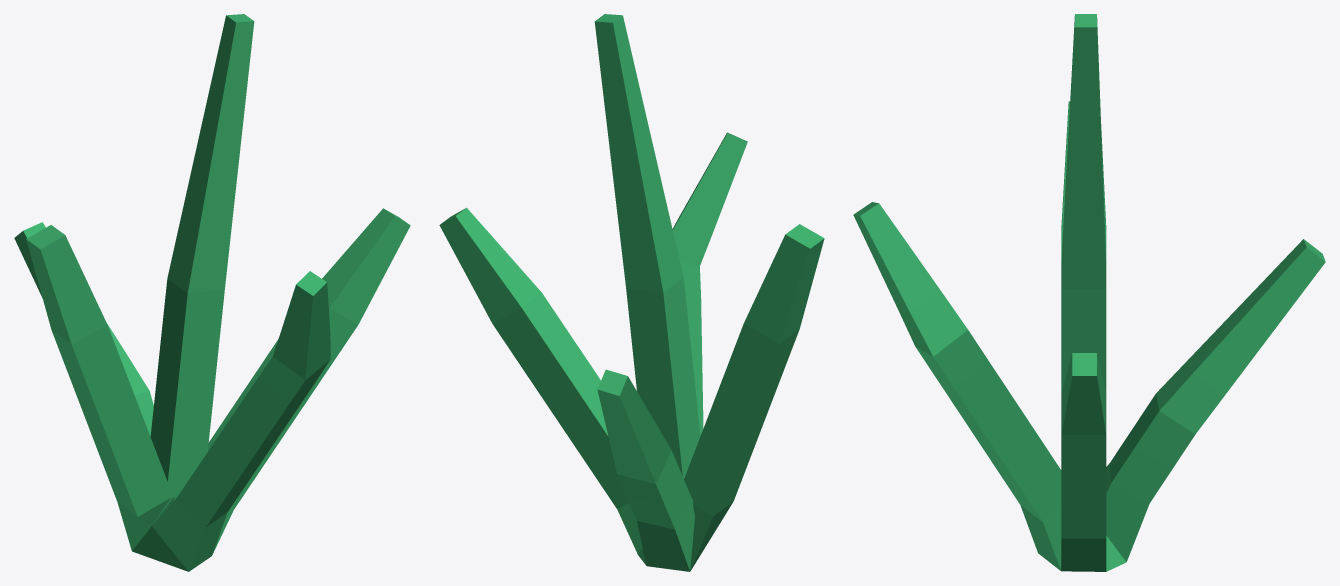
Rendered from plant_003_grp.fbx.
3 renders of one model, left to right at view 1: azimuth 30°, elevation 25°; view 2: azimuth 150°, elevation 25°; view 3: azimuth 270°, elevation 25°, orthographic. The views are drawn at different scales.
Parts seen in each view (by area): view 1: plant_003_grp; view 2: plant_003_grp; view 3: plant_003_grp.
Boxes of the visible parts, <box> form: plant_003_grp: <box>14,14,410,571</box>; plant_003_grp: <box>439,14,824,571</box>; plant_003_grp: <box>853,14,1325,571</box>.
Size of the model in its own units: 74.98 by 100 by 75.01.
